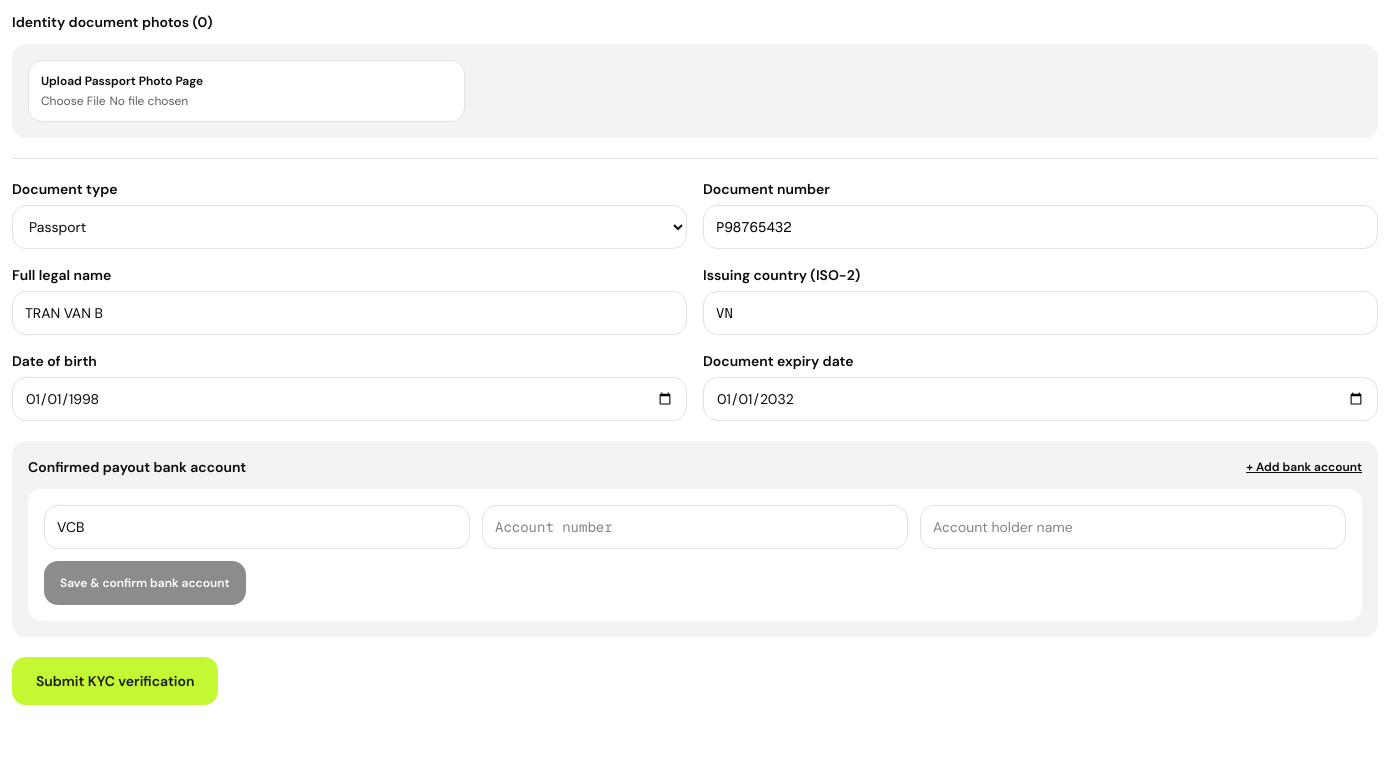
Scenario: Admin workspace, disputes, KYC & COD reconciliation › initializes SellerKycForm from existing PASSPORT identity, syncs upload slots, and allows switching/clearing
Expected: the text "Upload Passport Photo Page" is shown, [41,73,203,89]
Clear the field showing "P98765432" at (1040, 227), box [703,205,1378,249]
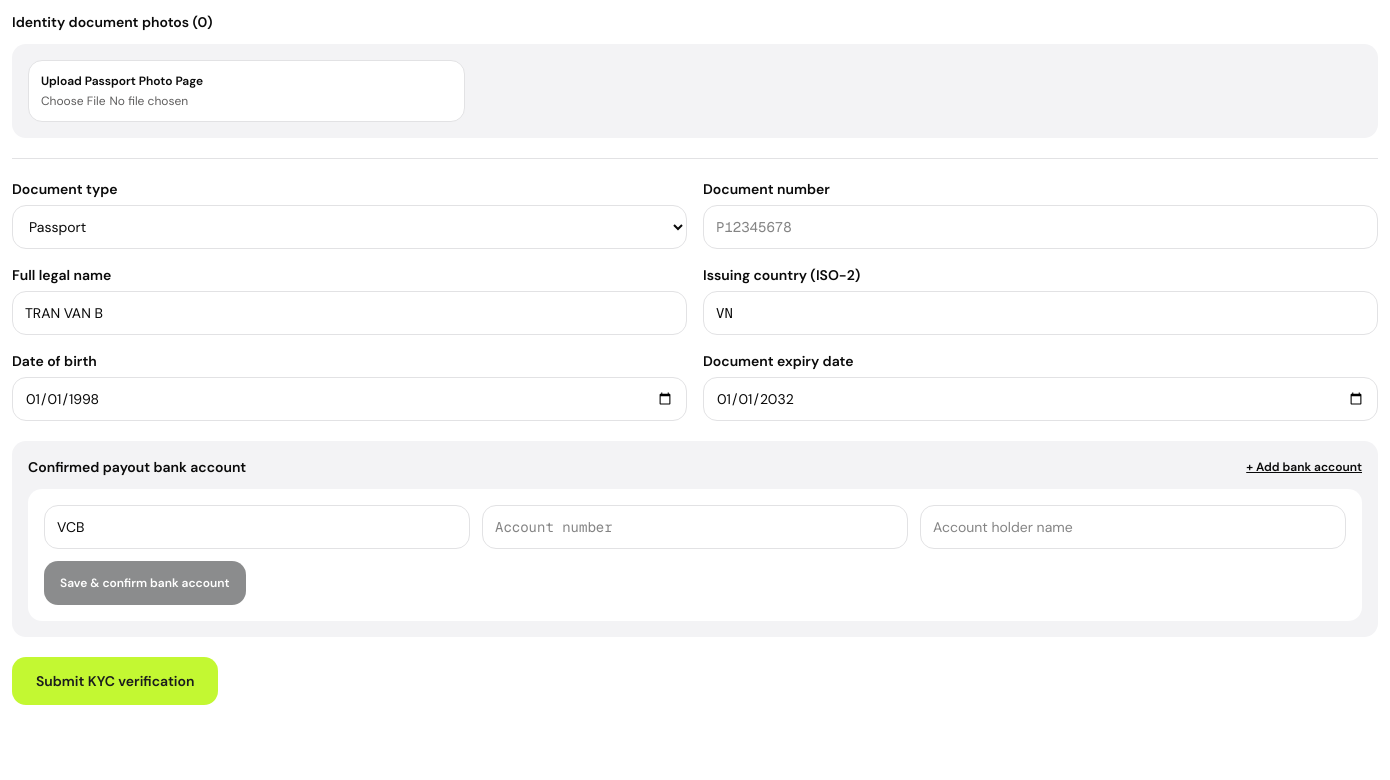
Select "Vietnam National ID (CCCD - 12 digits)" in the dropdown labelled "Document type" at (350, 227), box [12,205,687,249]
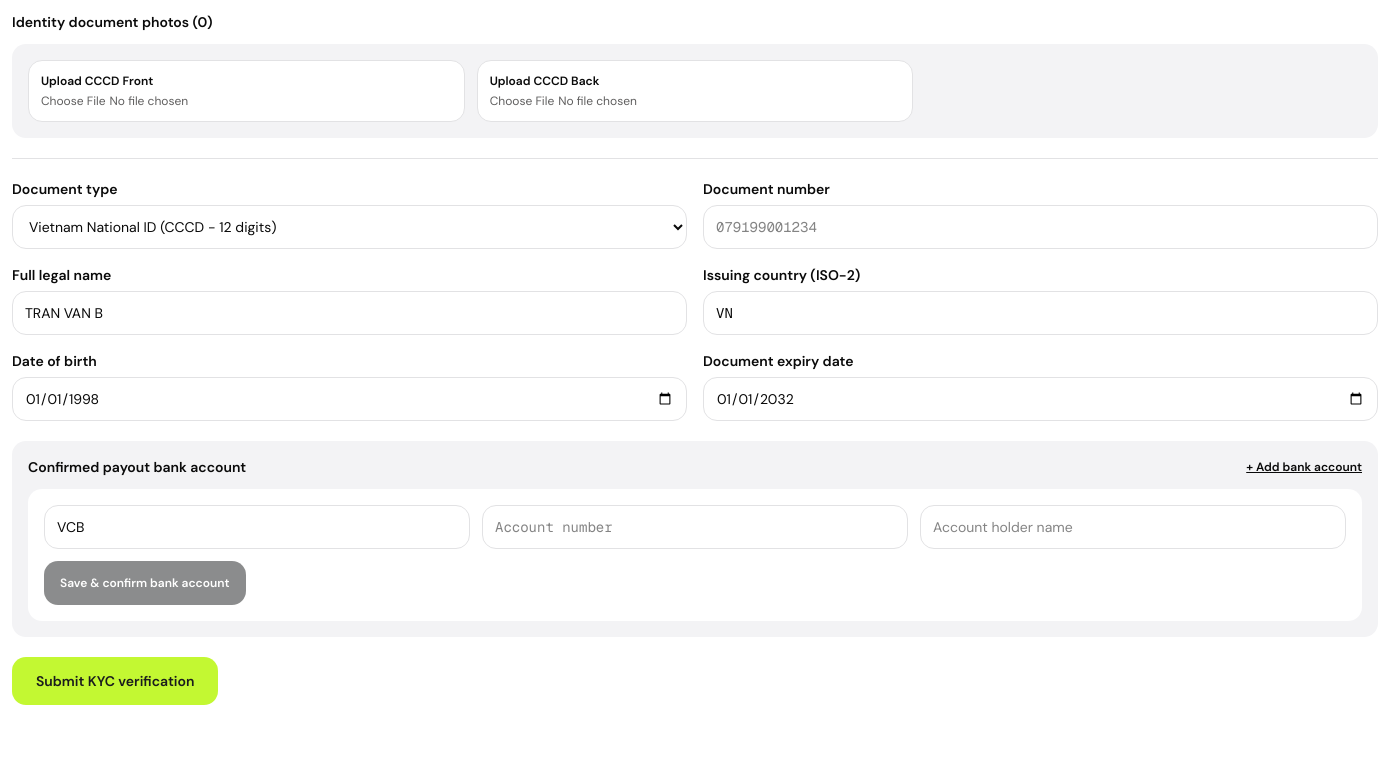
Result: the text "Upload CCCD Front" is shown at [41,73,153,89]
Result: the text "Upload CCCD Back" is shown at [490,73,599,89]
